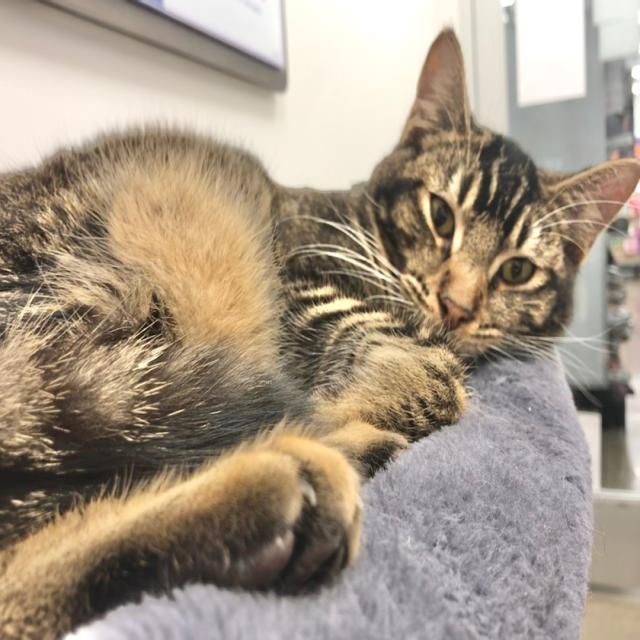american_shorthair_cat: (358, 19, 640, 382)
